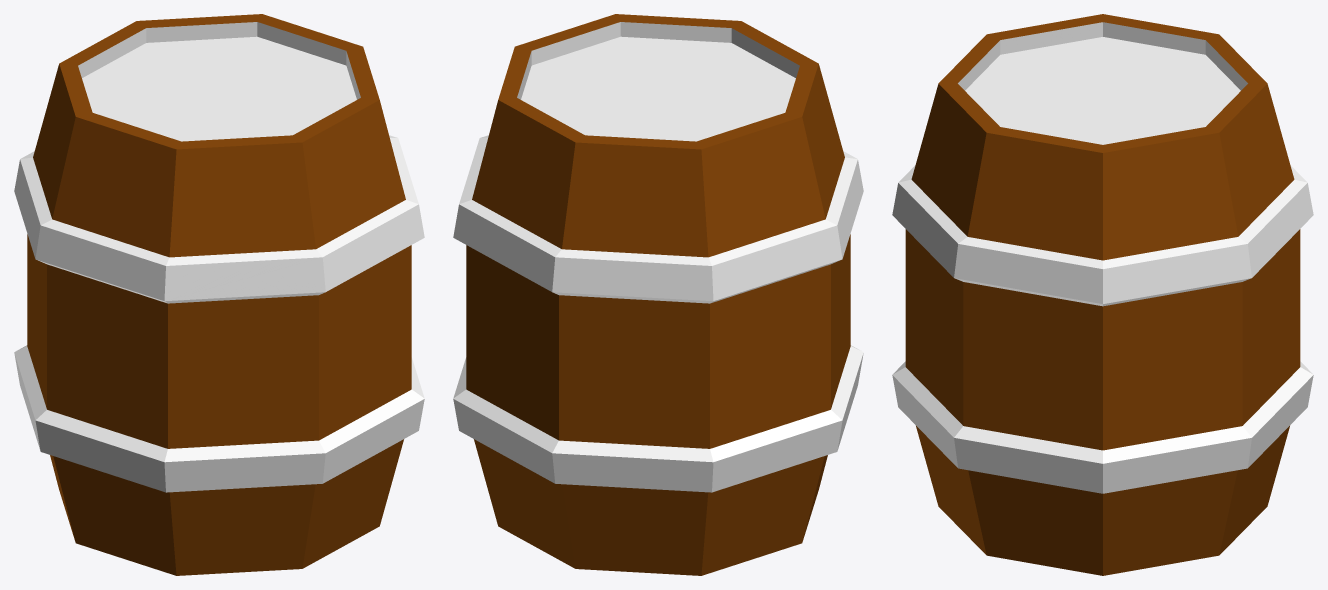
The model's file is Barrel.fbx.
3 renders of one model, left to right at view 1: azimuth 30°, elevation 25°; view 2: azimuth 150°, elevation 25°; view 3: azimuth 270°, elevation 25°, orthographic.
Visible parts, largest first — view 1: Barrel; view 2: Barrel; view 3: Barrel.
Part boxes in pixels (box(x1,y1,x2,y2)): Barrel: box(14, 14, 424, 575); Barrel: box(453, 14, 863, 575); Barrel: box(892, 14, 1313, 575).
Size of the model in its own units: 470 by 521 by 470.
